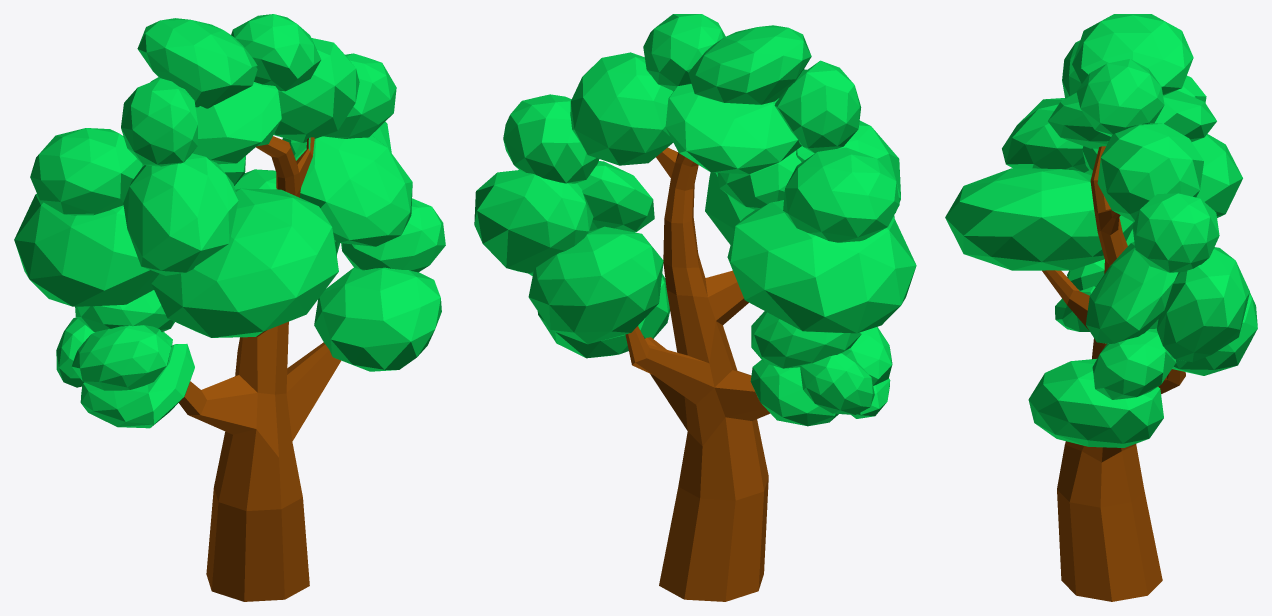
Rendered from oak_tree.fbx.
The picture shows the model from 3 angles, left to right: view 1: azimuth 30°, elevation 25°; view 2: azimuth 150°, elevation 25°; view 3: azimuth 270°, elevation 25°; orthographic projection. The views are drawn at different scales.
Parts seen in each view (by area): view 1: Oak; view 2: Oak; view 3: Oak.
Part boxes in pixels (bbox=[...]): Oak: bbox=[14, 14, 445, 601]; Oak: bbox=[474, 14, 916, 601]; Oak: bbox=[945, 14, 1257, 601].
Size of the model in its own units: 396 by 531 by 284.
